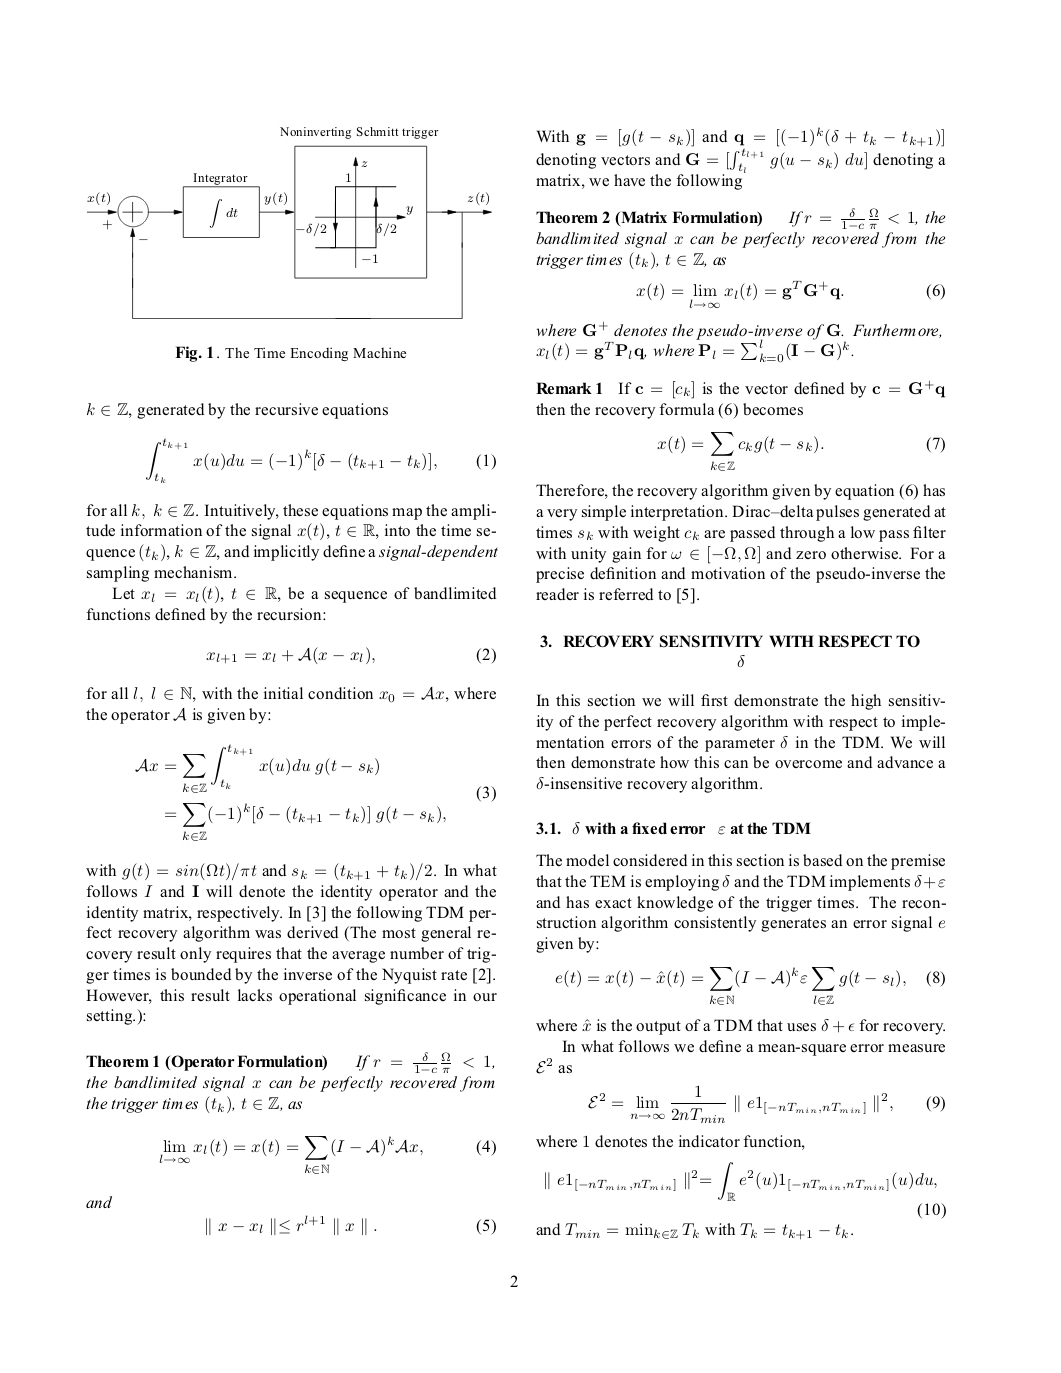figure: (87, 144, 491, 319)
formula: (135, 744, 495, 840), (545, 1161, 945, 1219), (146, 437, 495, 483), (555, 967, 944, 1004), (588, 1084, 944, 1123), (159, 1135, 495, 1174), (658, 432, 944, 470), (636, 279, 944, 309), (206, 1214, 495, 1236), (206, 646, 495, 665)
